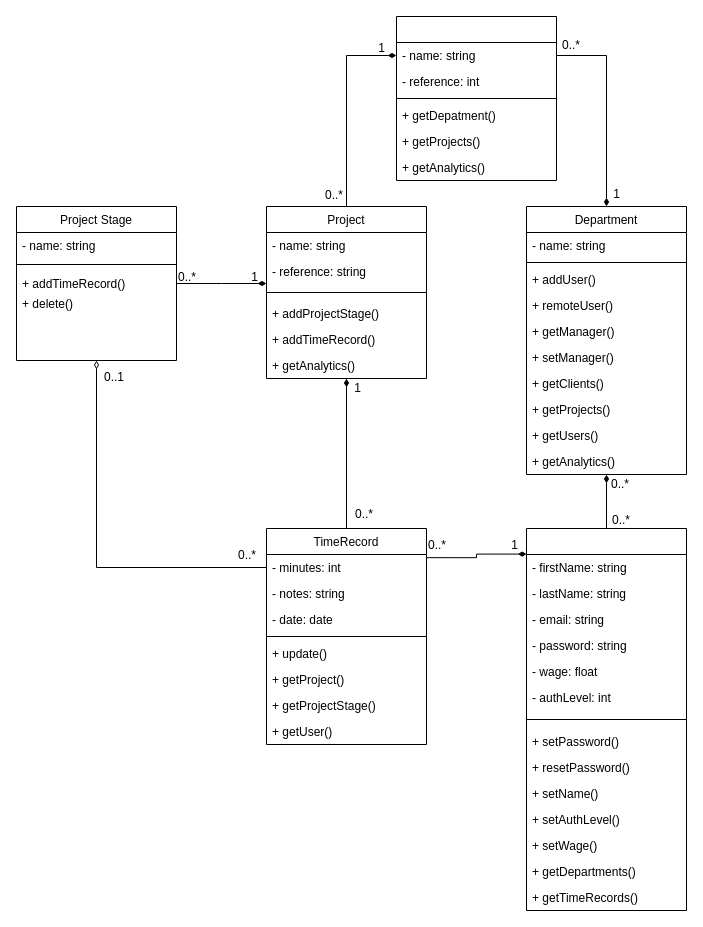
Image size: 703x927. Some labels were removed from this diagram. The box of each missing label's shape, as (x1, y1, x2, y2) in pixels:
Client: (396, 16, 556, 180)
User: (526, 528, 686, 910)
